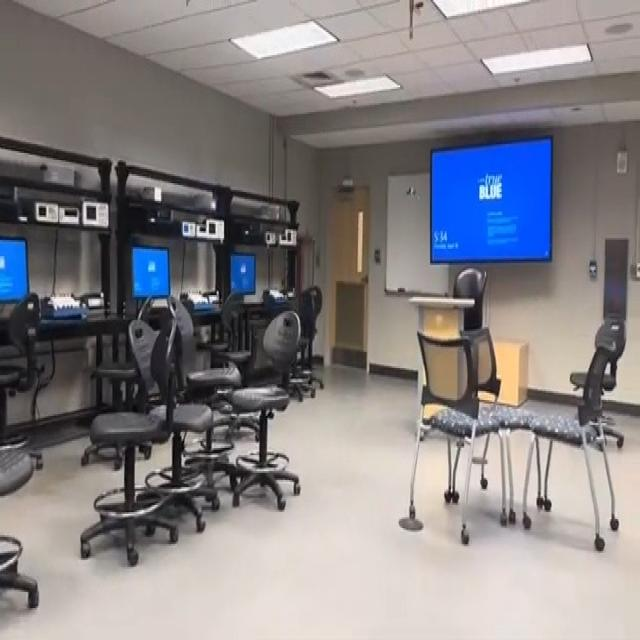drone: (394, 173, 429, 216)
